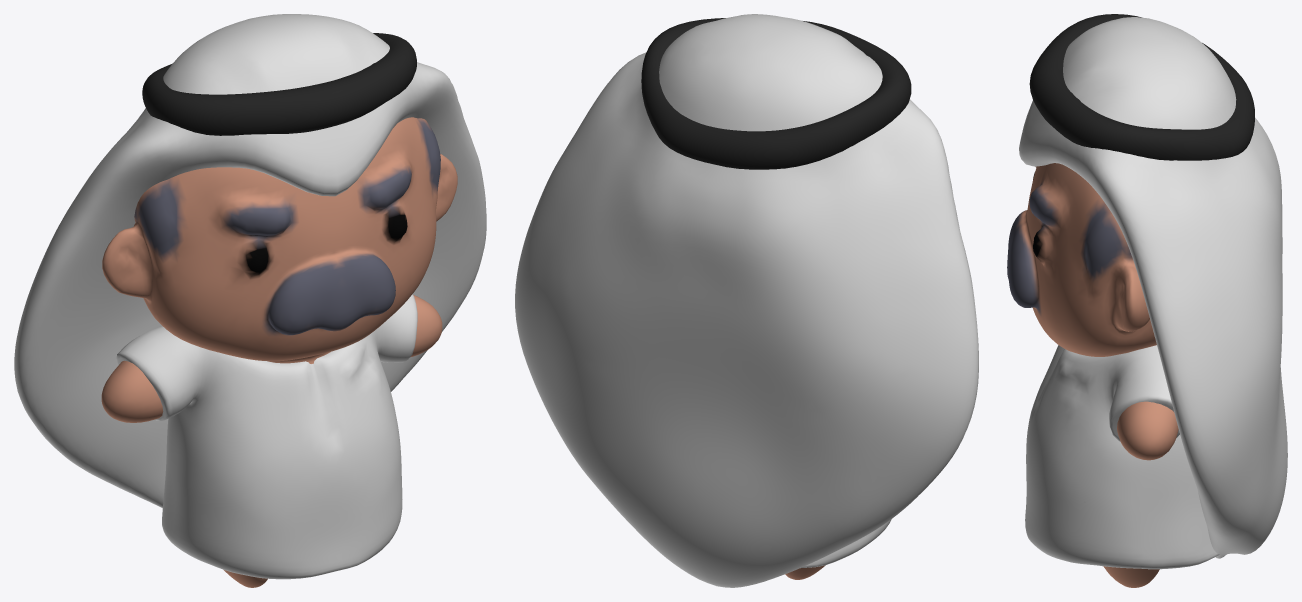
File: character 1.fbx
The picture shows the model from 3 angles, left to right: view 1: azimuth 30°, elevation 25°; view 2: azimuth 150°, elevation 25°; view 3: azimuth 270°, elevation 25°; orthographic projection. The views are drawn at different scales.
Parts seen in each view (by area): view 1: Skin_ZSphere4_2; view 2: Skin_ZSphere4_2; view 3: Skin_ZSphere4_2.
Boxes of the visible parts, x1,y1,x2,y2 form: Skin_ZSphere4_2: (14,14,486,587); Skin_ZSphere4_2: (515,14,978,587); Skin_ZSphere4_2: (1007,14,1287,587).
Bounding box in the file's own units: 4.79 × 5.44 × 2.57.
